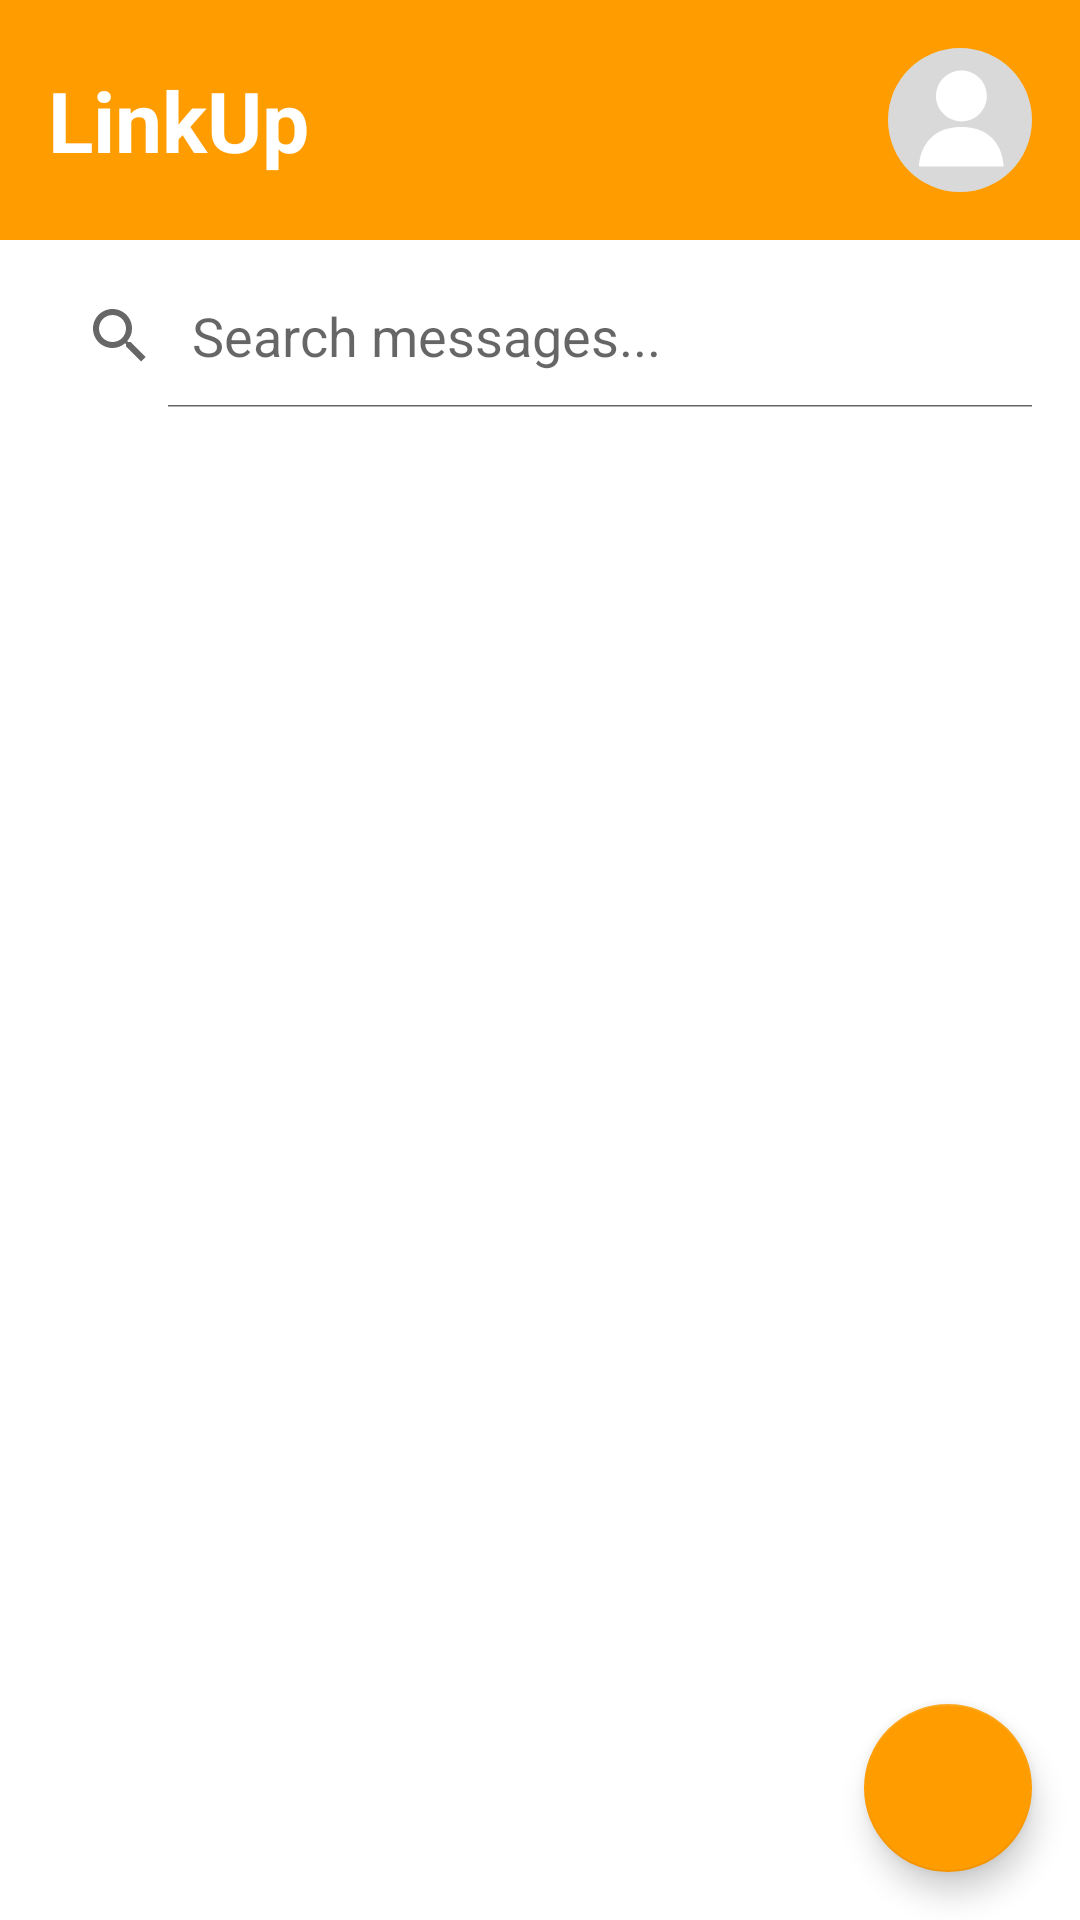

Locate icon controls on the screen. Image size 1080 × 1920, boxes as (x1, y1, x2, y2).
Profile picture: (888, 48, 1032, 192)
